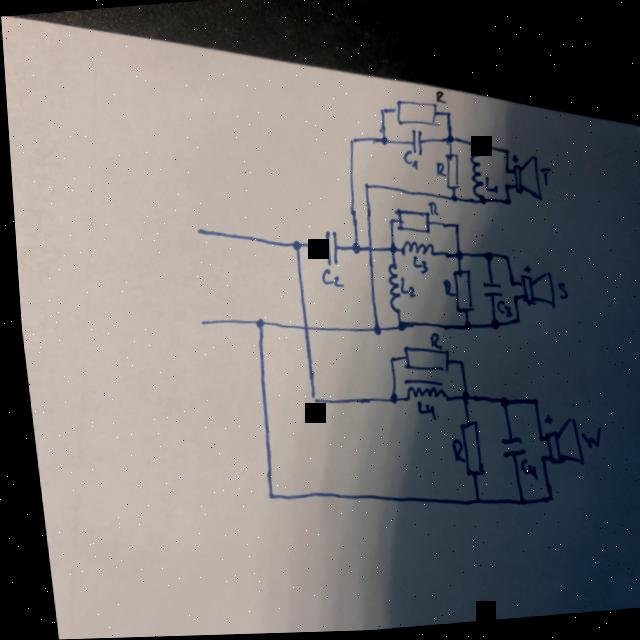capacitor: (319, 229, 337, 268), (493, 436, 520, 462), (407, 129, 423, 160), (476, 283, 500, 301)
crossover: (296, 323, 306, 336), (362, 245, 372, 257)
inductor: (464, 142, 485, 209), (397, 378, 443, 407), (381, 264, 400, 317), (396, 240, 432, 261)
junction: (302, 391, 316, 410), (346, 242, 359, 259), (249, 318, 261, 334), (287, 240, 299, 256), (366, 323, 378, 339), (484, 319, 496, 335), (493, 399, 505, 414), (454, 392, 466, 407), (382, 392, 394, 407), (384, 245, 396, 259), (391, 321, 403, 335), (258, 489, 269, 504), (377, 135, 388, 150), (479, 253, 490, 266), (450, 252, 461, 265), (510, 498, 521, 510), (450, 359, 461, 371), (457, 323, 468, 335), (443, 136, 454, 148), (446, 195, 457, 207), (539, 493, 549, 506), (466, 497, 476, 509), (381, 356, 391, 368), (508, 318, 518, 330), (498, 255, 508, 267), (346, 138, 356, 150), (441, 111, 451, 123), (384, 219, 393, 231), (360, 183, 369, 195), (531, 456, 541, 466), (504, 282, 514, 292), (531, 436, 540, 447), (507, 297, 516, 308), (525, 401, 534, 411), (449, 224, 458, 234), (377, 109, 386, 119), (501, 168, 509, 179), (501, 151, 509, 161), (503, 199, 510, 210), (501, 184, 508, 195), (477, 199, 484, 210), (473, 143, 480, 154)
resistor: (396, 344, 447, 379), (452, 422, 480, 482), (391, 98, 438, 131), (390, 207, 430, 240), (447, 270, 471, 317), (440, 153, 460, 194)
terminal: (194, 318, 206, 331), (191, 227, 202, 240)
text: (408, 400, 433, 426), (316, 268, 341, 292), (513, 460, 533, 486), (575, 431, 597, 453), (394, 277, 413, 301), (444, 440, 460, 468), (399, 151, 418, 174), (407, 256, 426, 278), (491, 301, 509, 322), (423, 333, 439, 355), (481, 176, 496, 198), (537, 169, 551, 192), (437, 280, 451, 302), (551, 284, 565, 305), (432, 162, 445, 182), (431, 92, 445, 110), (424, 203, 438, 220)
